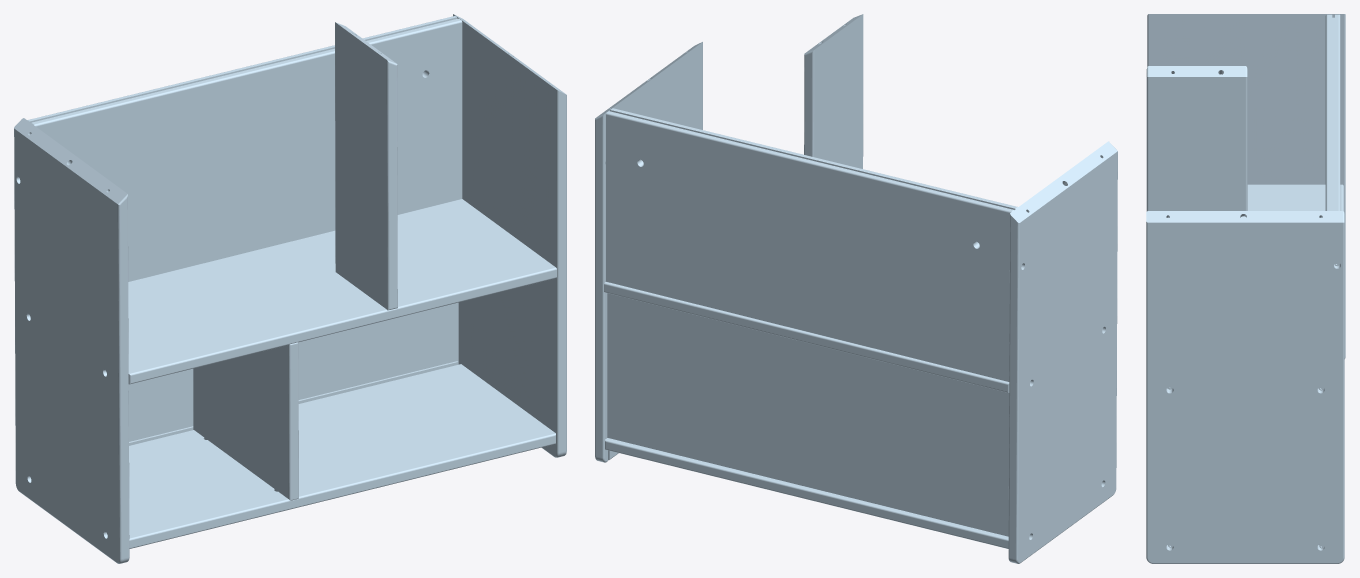
File: step6.glb
3 renders of one model, left to right at view 1: azimuth 30°, elevation 25°; view 2: azimuth 150°, elevation 25°; view 3: azimuth 270°, elevation 25°, orthographic. The views are drawn at different scales.
Visible parts, largest first — view 1: 1; view 2: 1; view 3: 1.
Part boxes in pixels (x1,y1,x2,y2): 1: (14,14,566,563); 1: (595,14,1117,563); 1: (1146,14,1345,563).
Size of what is drawn, in the model's own units: 3.22 by 3.03 by 1.31.
